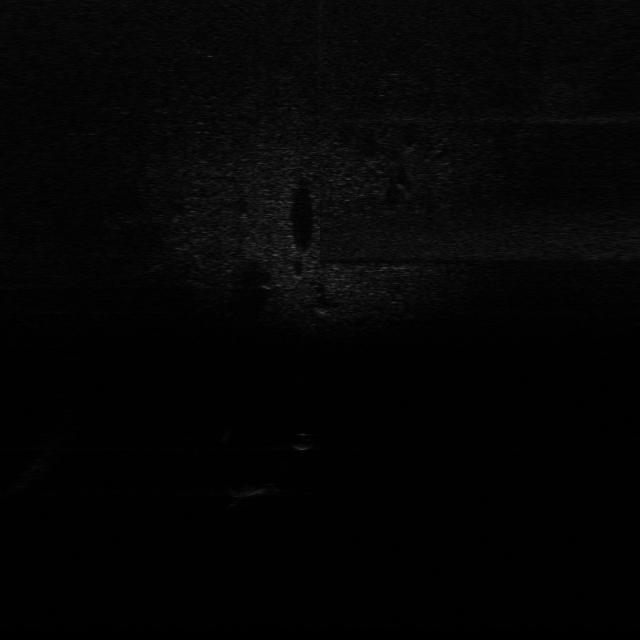ball: (292, 430, 318, 455)
square cage: (227, 477, 284, 498)
